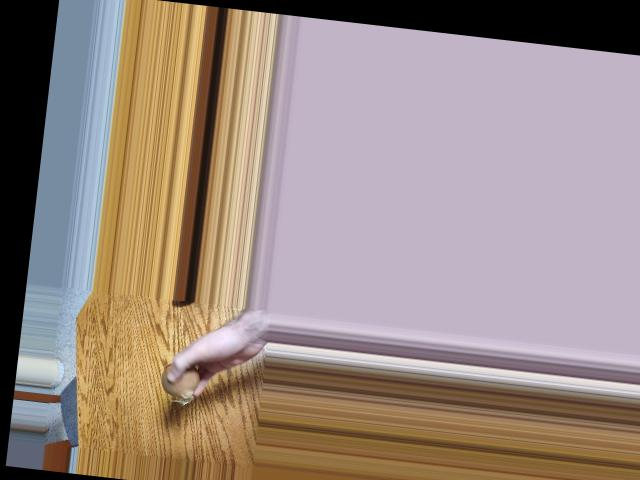onion: (162, 362, 195, 395)
